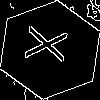X: (25, 25, 79, 65)
